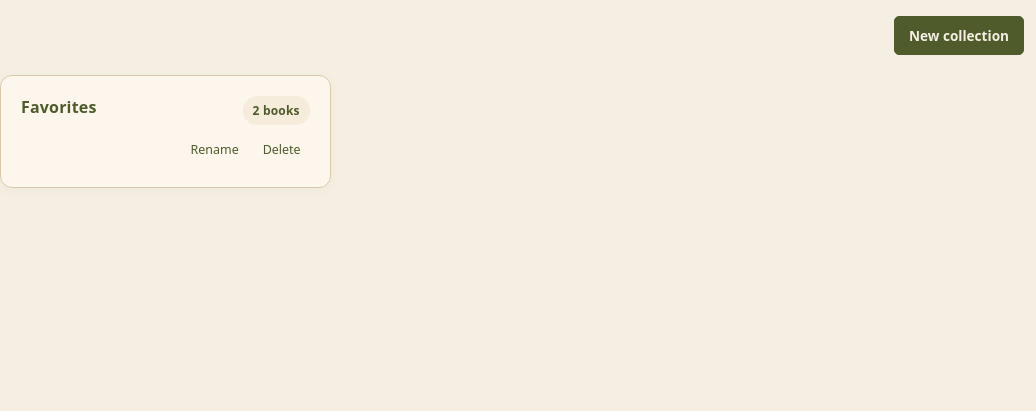
Test: CollectionsManager › defers count refreshes during an edit and uses the latest removal state after success
The image size is (1036, 411).
Click the button with aria-label "Rename Favorites" at (215, 150), box [182,133,248,167]
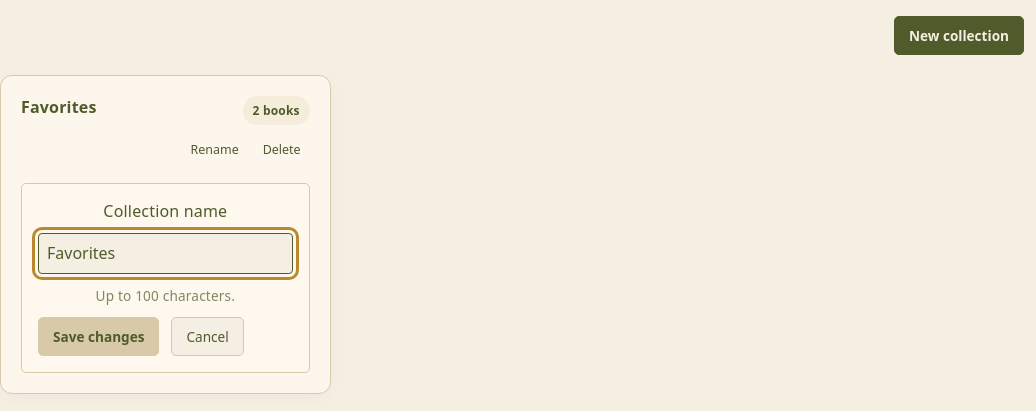
Replace the text in the field labelled "Collection name" with "Updated" at (165, 253), box [38,233,293,274]
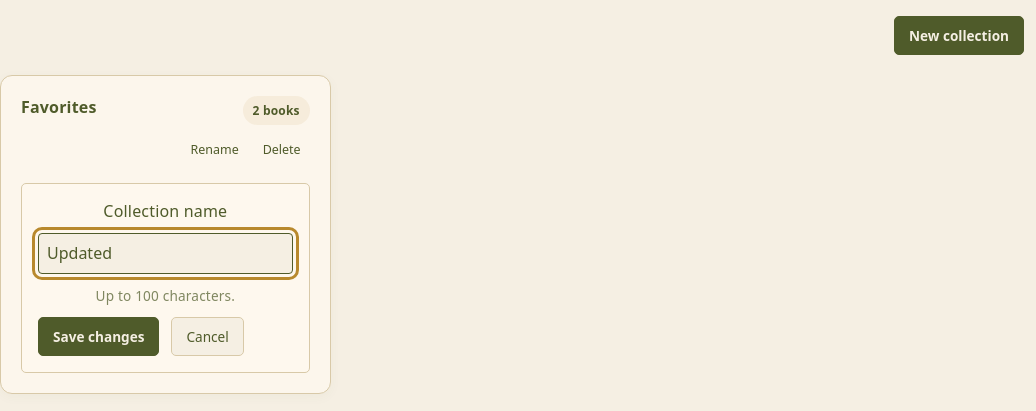
Click the button "Save changes" at (99, 337), box [38,317,160,356]
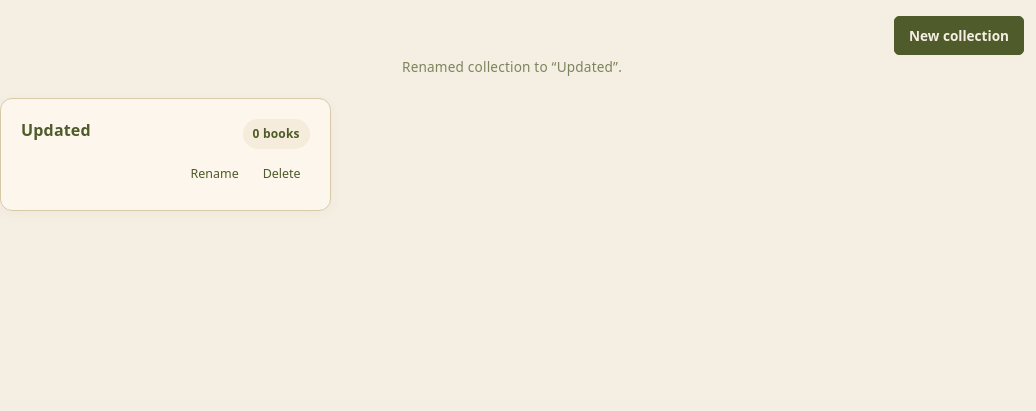
Expected: the text "0 books" is shown, [242,119,310,149]
Expected: the link "Updated" is shown, [21,119,91,141]
Expected: the message shows "Renamed collection to “Updated”", [402,57,622,76]
